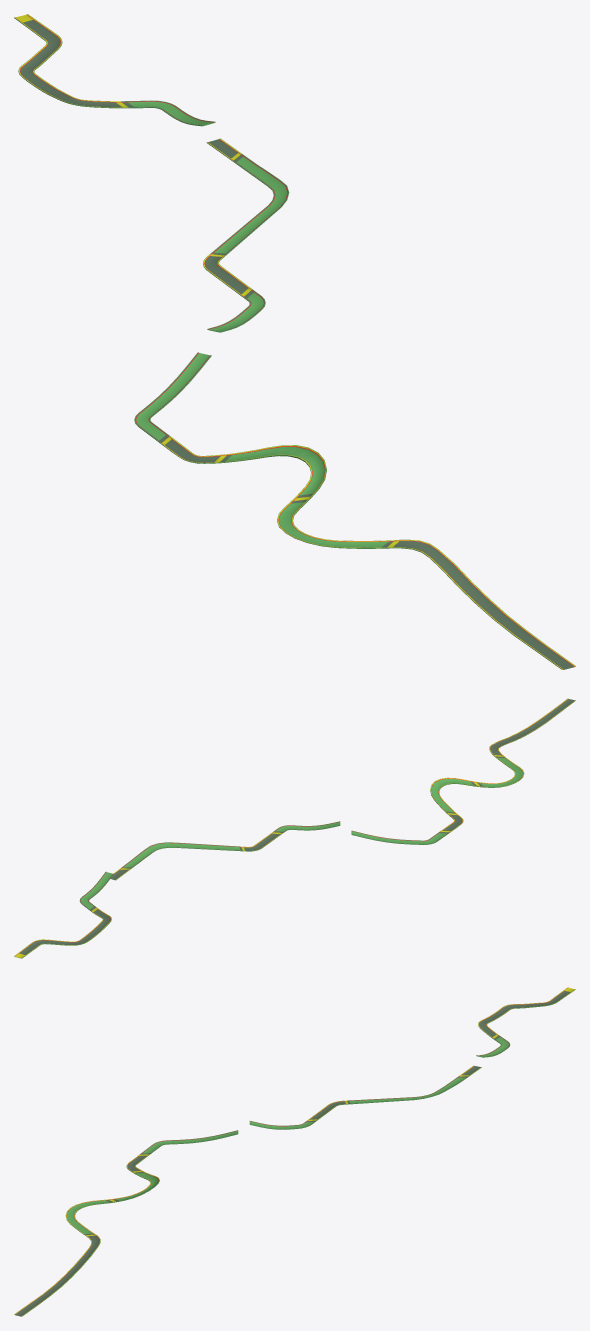
Rendered from Squares.FBX.
The picture shows the model from 3 angles, top to bottom: view 1: azimuth 30°, elevation 25°; view 2: azimuth 150°, elevation 25°; view 3: azimuth 330°, elevation 25°; orthographic projection. The views are drawn at different scales.
Parts seen in each view (by area): view 1: Object138; view 2: Object138; view 3: Object138.
Part boxes in pixels (x1,y1,x2,y2): Object138: (14, 14, 575, 669); Object138: (14, 698, 575, 958); Object138: (14, 987, 575, 1316).
Size of the model in its own units: 28801 by 6444 by 115763.
